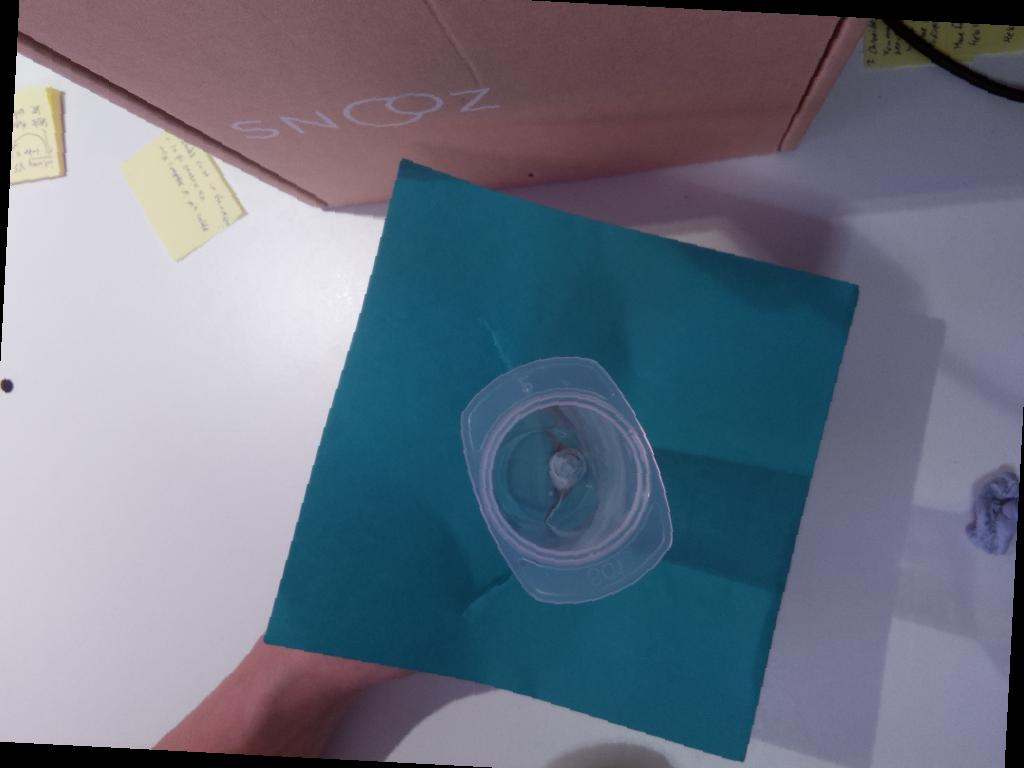clean: (454, 341, 679, 624)
